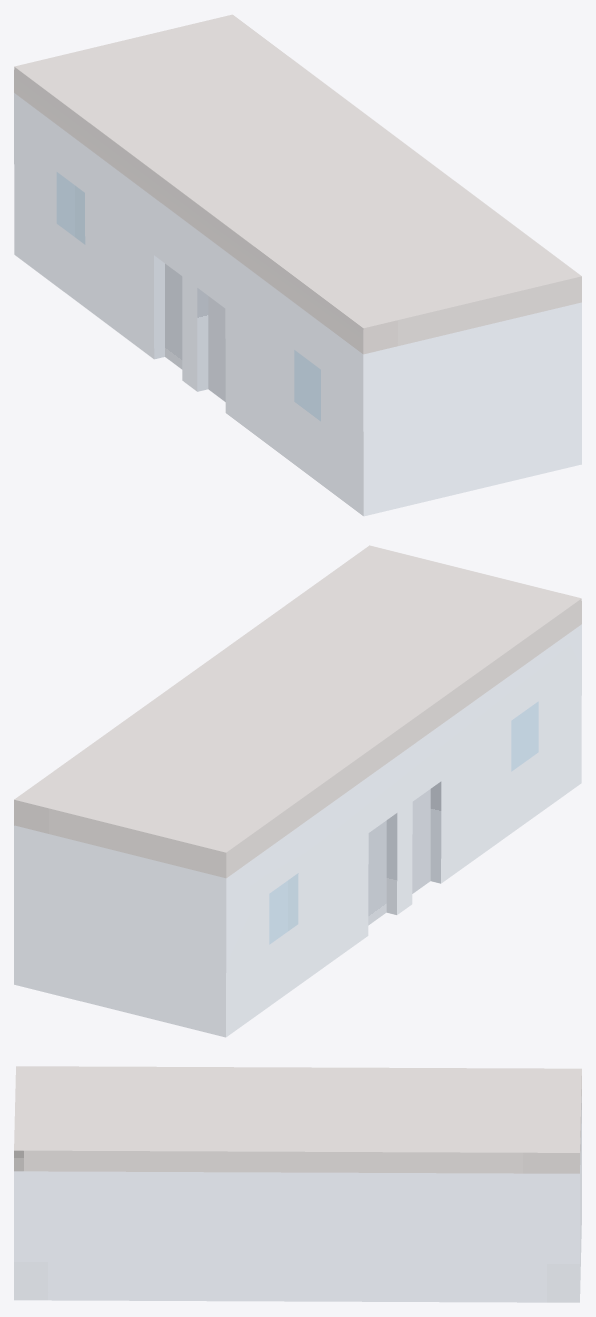
File: Utility_structure_1.glb
3 views of the same model, one above another, from view 1: azimuth 30°, elevation 25°; view 2: azimuth 150°, elevation 25°; view 3: azimuth 270°, elevation 25° (orthographic). The views are drawn at different scales.
Parts seen in each view (by area): view 1: Utility_structure_1_baked; view 2: Utility_structure_1_baked; view 3: Utility_structure_1_baked.
Boxes of the visible parts, <box> form: Utility_structure_1_baked: <box>14,14,581,516</box>; Utility_structure_1_baked: <box>14,545,581,1037</box>; Utility_structure_1_baked: <box>14,1066,581,1302</box>.
Size of the model in its own units: 4.48 by 3.6 by 12.39.
1 material, 1 textured.
